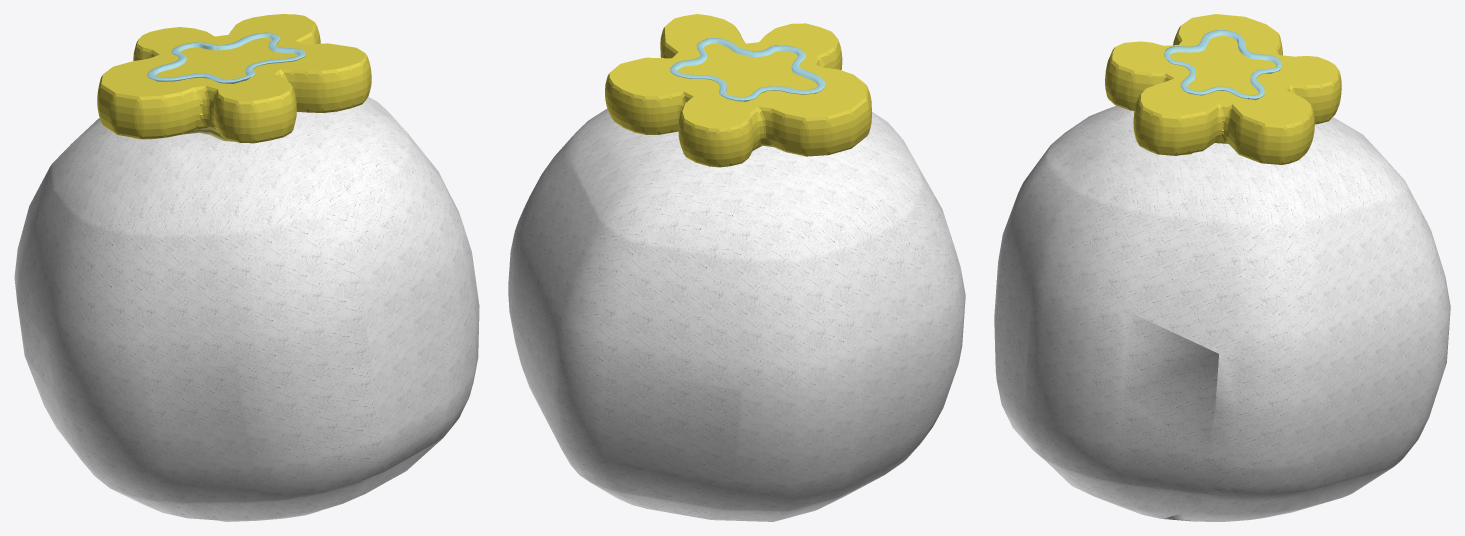
Rendered from flowerob.glb.
3 views of the same model, side by side, from view 1: azimuth 30°, elevation 25°; view 2: azimuth 150°, elevation 25°; view 3: azimuth 270°, elevation 25° (orthographic). The views are drawn at different scales.
Parts seen in each view (by area): view 1: Cylinder.045, Plane.198, Plane.199; view 2: Cylinder.045, Plane.198, Plane.199; view 3: Cylinder.045, Plane.198, Plane.199.
Boxes of the visible parts, x1=… form: Cylinder.045: x1=14, y1=96, x2=479, y2=521; Plane.198: x1=97, y1=14, x2=371, y2=143; Plane.199: x1=147, y1=32, x2=305, y2=83; Cylinder.045: x1=508, y1=108, x2=965, y2=521; Plane.198: x1=605, y1=14, x2=871, y2=167; Plane.199: x1=670, y1=37, x2=825, y2=101; Cylinder.045: x1=994, y1=105, x2=1450, y2=521; Plane.198: x1=1105, y1=14, x2=1341, y2=164; Plane.199: x1=1164, y1=30, x2=1282, y2=100.
Bounding box in the file's own units: 4.57 × 4.77 × 4.6.
Materials: 4 (1 with a texture image).
